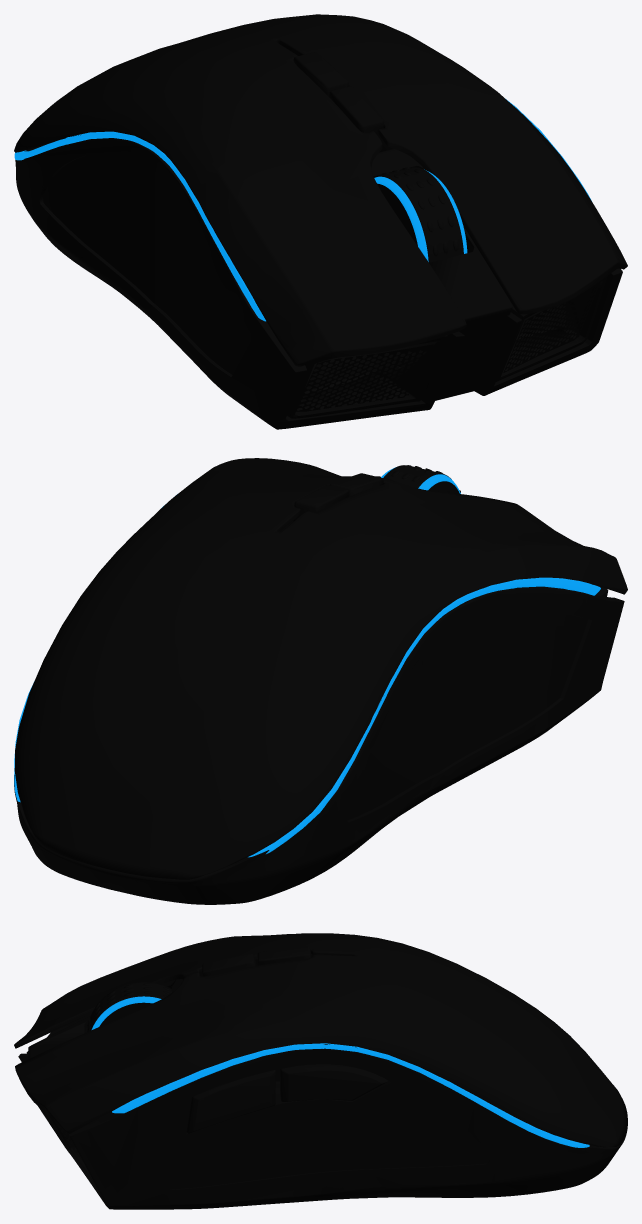
Rendered from Mouse_Mamba_Station-2.glb.
The picture shows the model from 3 angles, top to bottom: view 1: azimuth 30°, elevation 25°; view 2: azimuth 150°, elevation 25°; view 3: azimuth 270°, elevation 25°; orthographic projection. The views are drawn at different scales.
Visible parts, largest first — view 1: Mouse_Mamba_StationTwo_LOD0; view 2: Mouse_Mamba_StationTwo_LOD0; view 3: Mouse_Mamba_StationTwo_LOD0.
Part boxes in pixels (x1,y1,x2,y2): Mouse_Mamba_StationTwo_LOD0: (14, 14, 627, 429); Mouse_Mamba_StationTwo_LOD0: (14, 458, 627, 904); Mouse_Mamba_StationTwo_LOD0: (14, 933, 627, 1209).
Size of what is drawn, in the model's own units: 0.0801 by 0.0551 by 0.1555.
